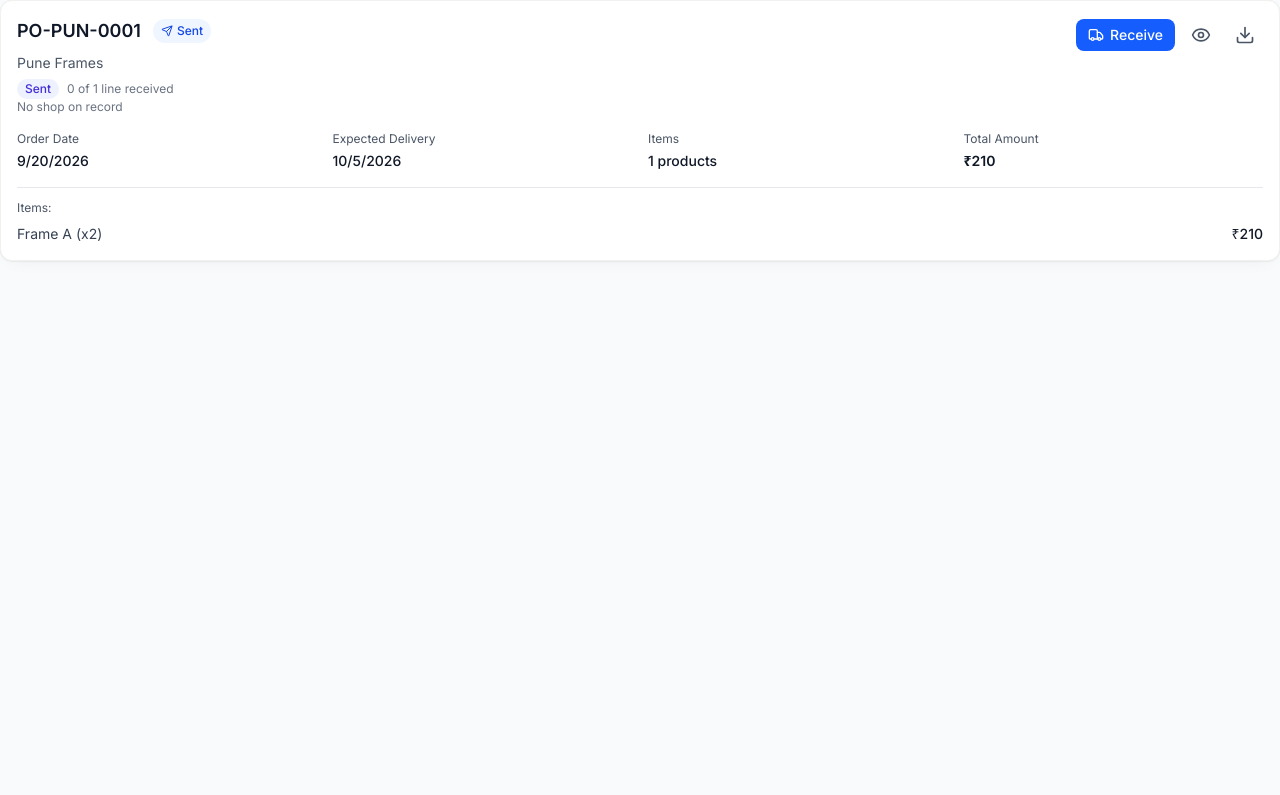
Test: Receive from Purchase Orders lands on a receive screen holding the order › admin on All stores: the screen reads every shop and opens the order
Click the button "Receive": x=1126, y=35 x1=1076 y1=19 x2=1175 y2=51
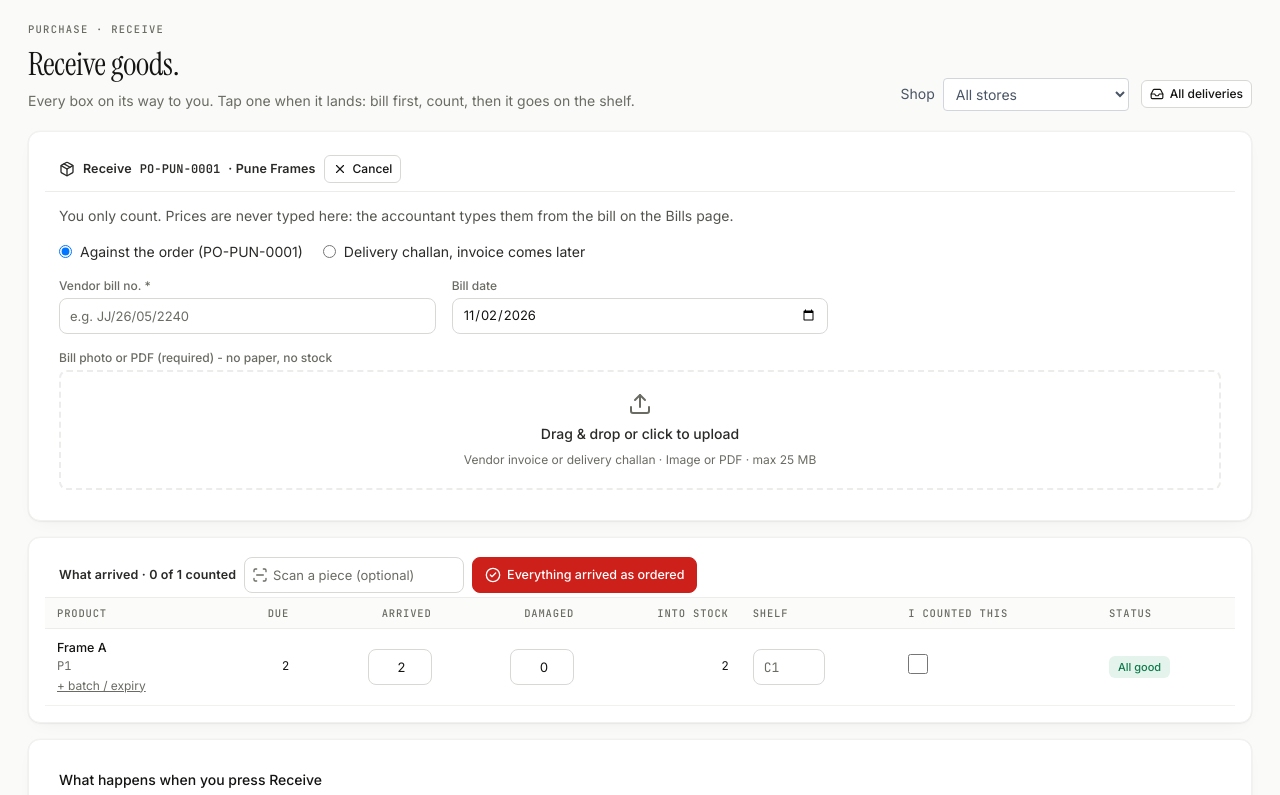
Expected: the heading "Receive PO-PUN-0001 · Pune Frames" is shown, x1=59 y1=161 x2=316 y2=177
